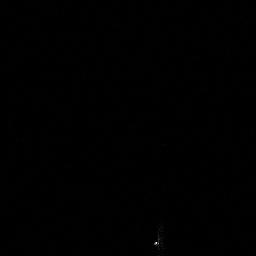ship: (151, 228, 166, 254)
